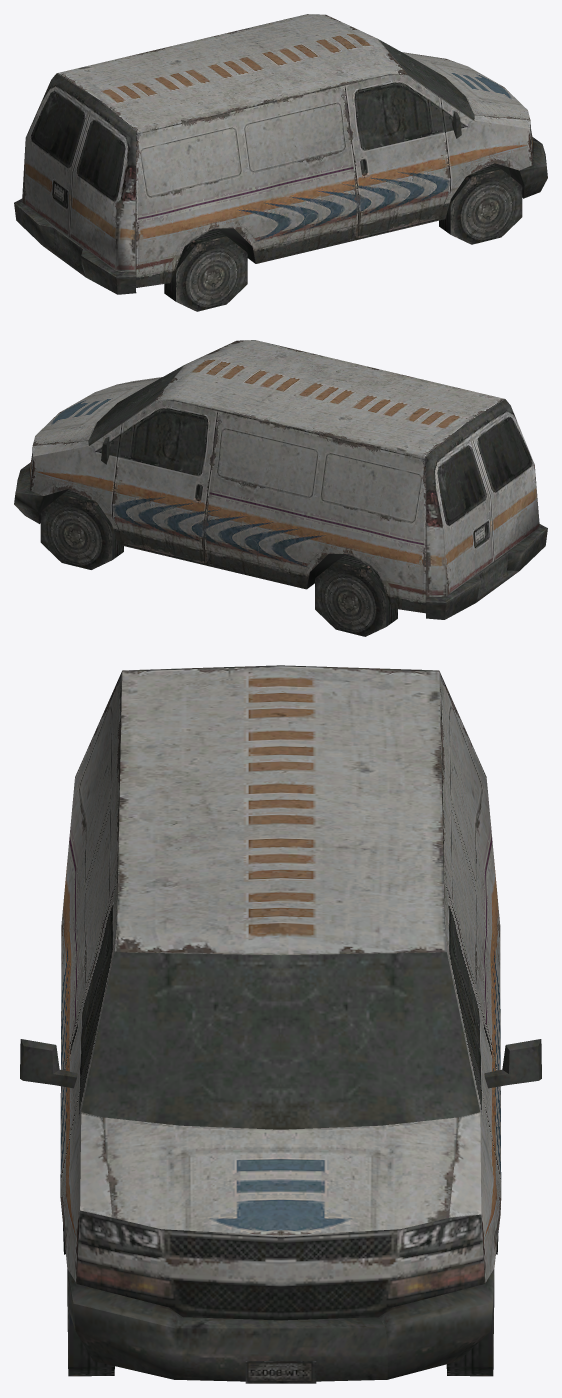
Rendered from Prop_Wj034new_lod1.glb.
3 views of the same model, one above another, from view 1: azimuth 30°, elevation 25°; view 2: azimuth 150°, elevation 25°; view 3: azimuth 270°, elevation 25° (orthographic). The views are drawn at different scales.
Parts seen in each view (by area): view 1: xiutz_wj034new_lod1; view 2: xiutz_wj034new_lod1; view 3: xiutz_wj034new_lod1.
Boxes of the visible parts, x1,y1,x2,y2 form: xiutz_wj034new_lod1: [14, 14, 547, 311]; xiutz_wj034new_lod1: [14, 340, 547, 636]; xiutz_wj034new_lod1: [20, 665, 541, 1383].
Bounding box in the file's own units: 8.02 × 3.07 × 3.94.
Materials: 1 (1 with a texture image).
